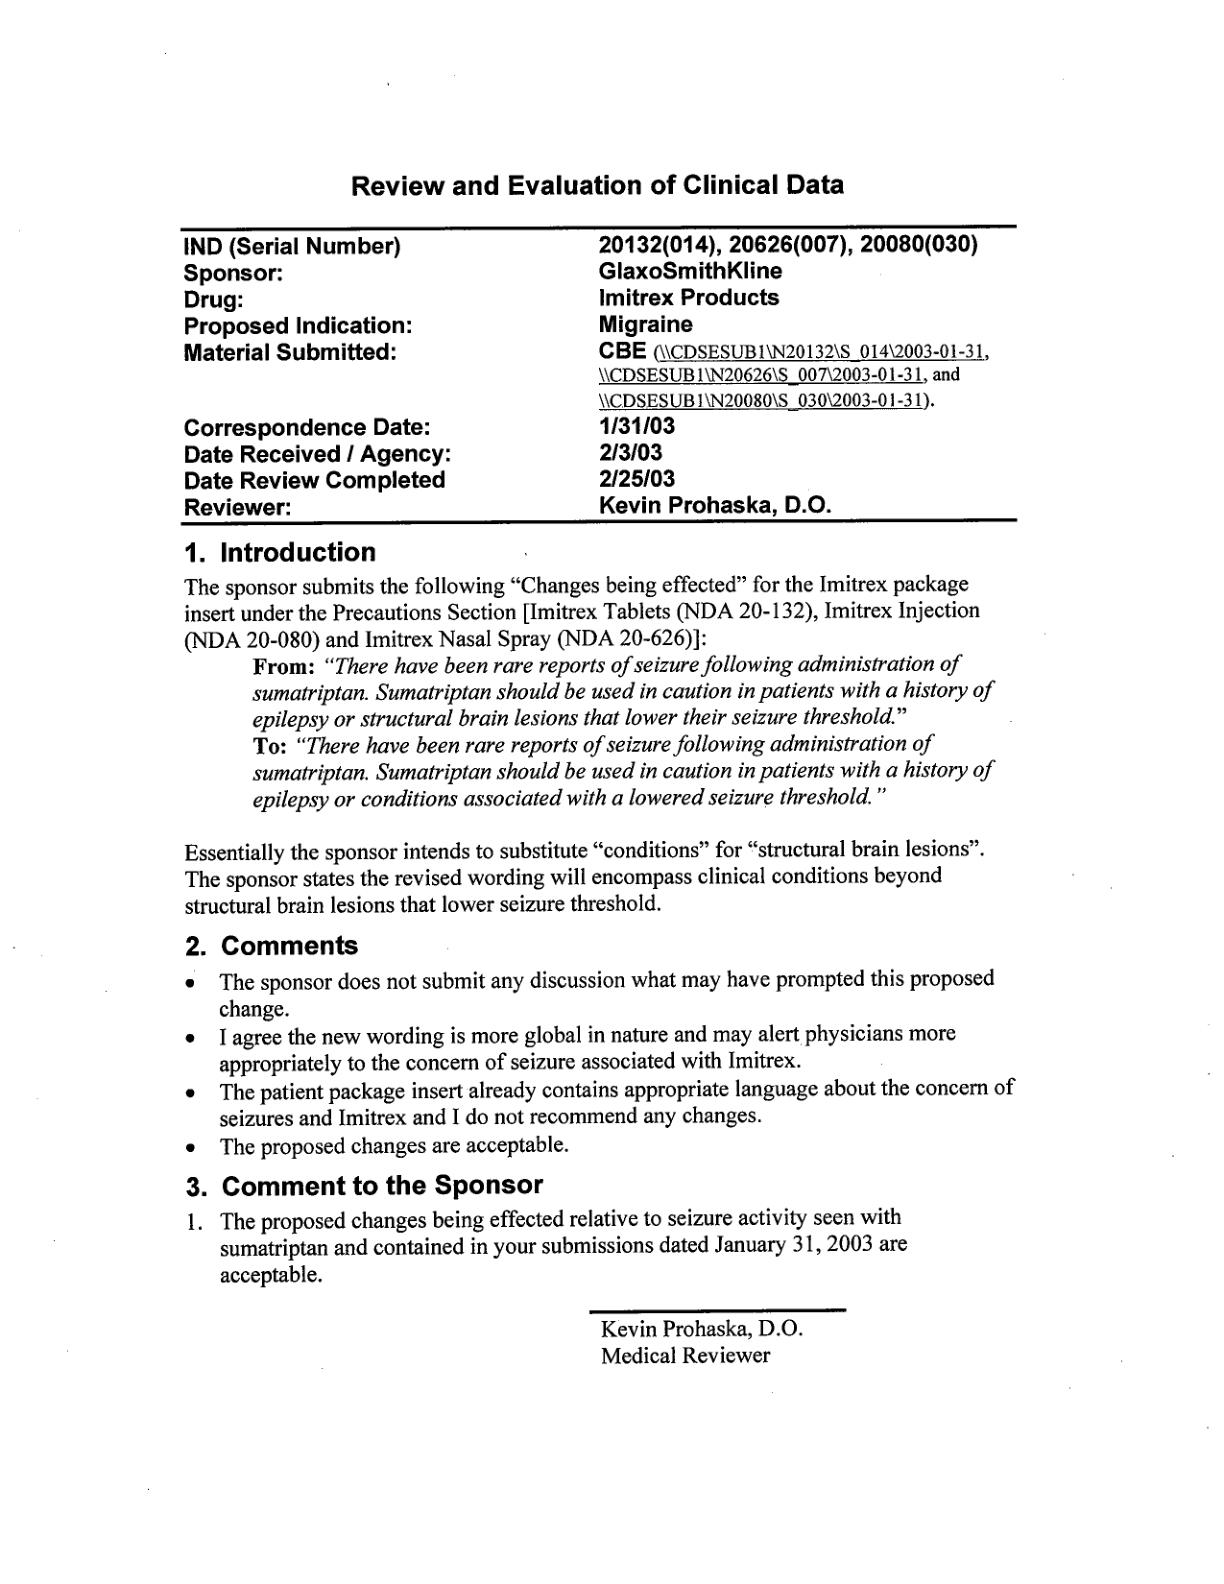partial_lined: (177, 222, 1020, 527)
